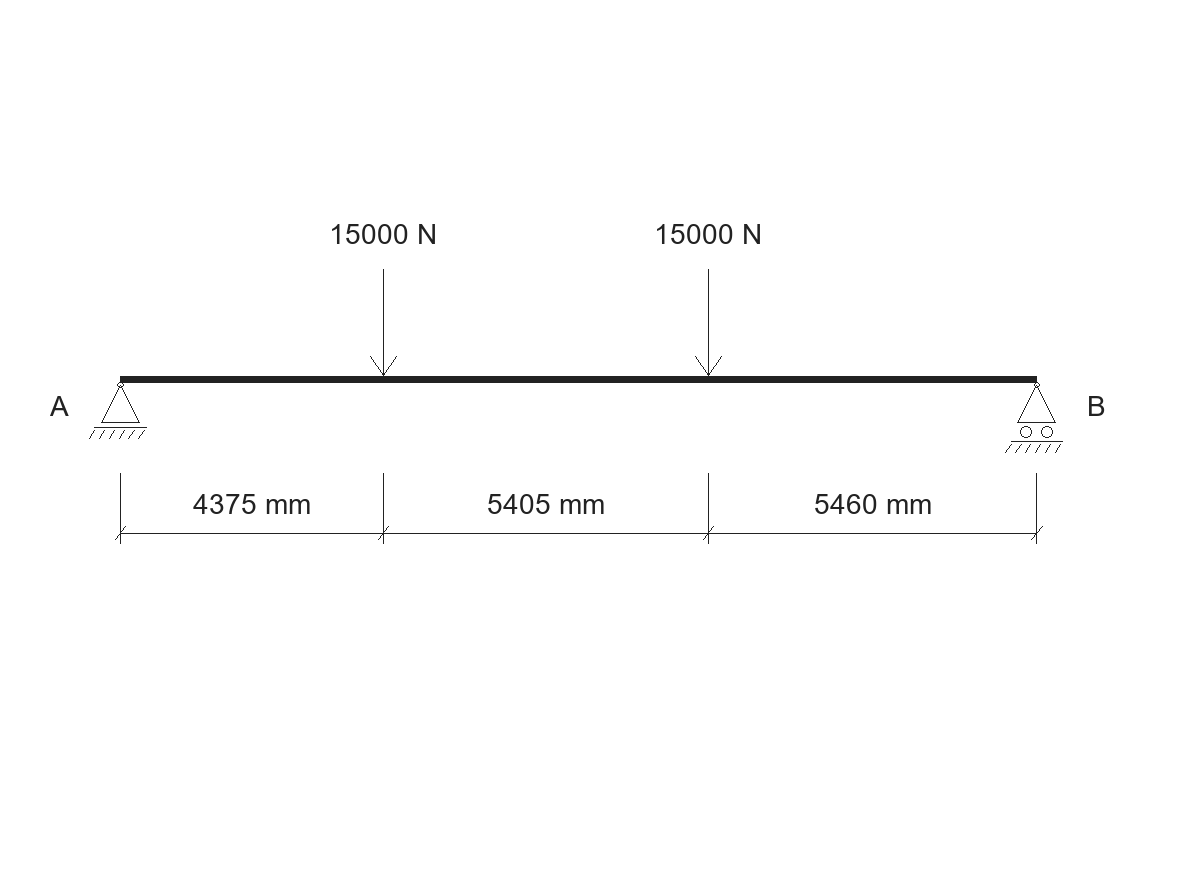pin_support: (89, 382, 147, 439)
point_load: (370, 269, 397, 376), (695, 269, 722, 376)
roller_support: (1005, 382, 1063, 453)
